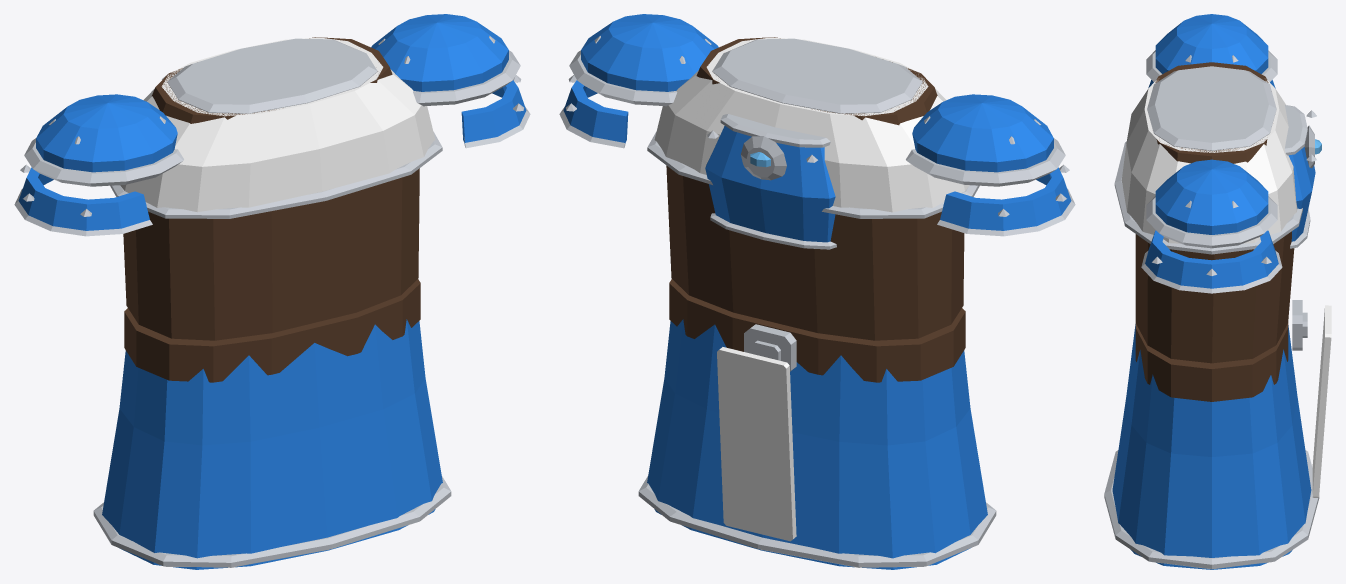
The model's file is look3_armor_healer_rare.fbx.
3 renders of one model, left to right at view 1: azimuth 30°, elevation 25°; view 2: azimuth 150°, elevation 25°; view 3: azimuth 270°, elevation 25°, orthographic. The views are drawn at different scales.
Parts seen in each view (by area): view 1: Main, Tasset; view 2: Main, Tasset; view 3: Main, Tasset.
Part boxes in pixels (bbox=[...]): Main: bbox=[14, 14, 530, 382]; Tasset: bbox=[93, 319, 451, 569]; Main: bbox=[559, 14, 1075, 382]; Tasset: bbox=[638, 319, 996, 569]; Main: bbox=[1114, 14, 1321, 401]; Tasset: bbox=[1104, 305, 1331, 569].
Bounding box in the file's own units: 401 × 345 × 175.
